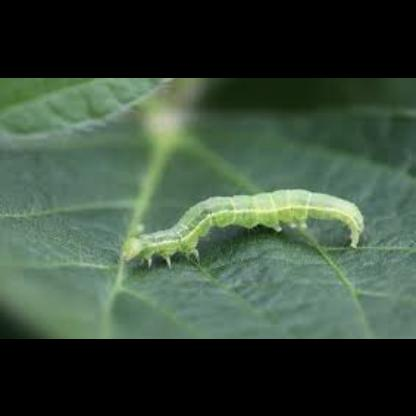oruga: (118, 185, 366, 273)
